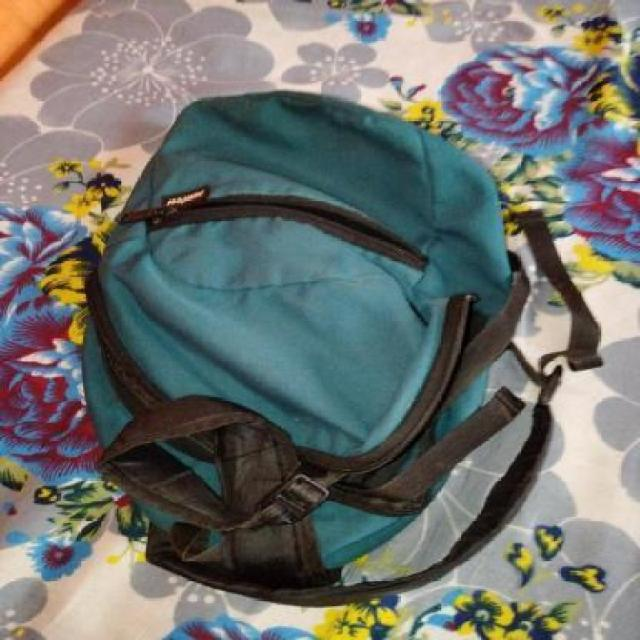backpack: (74, 83, 606, 614)
